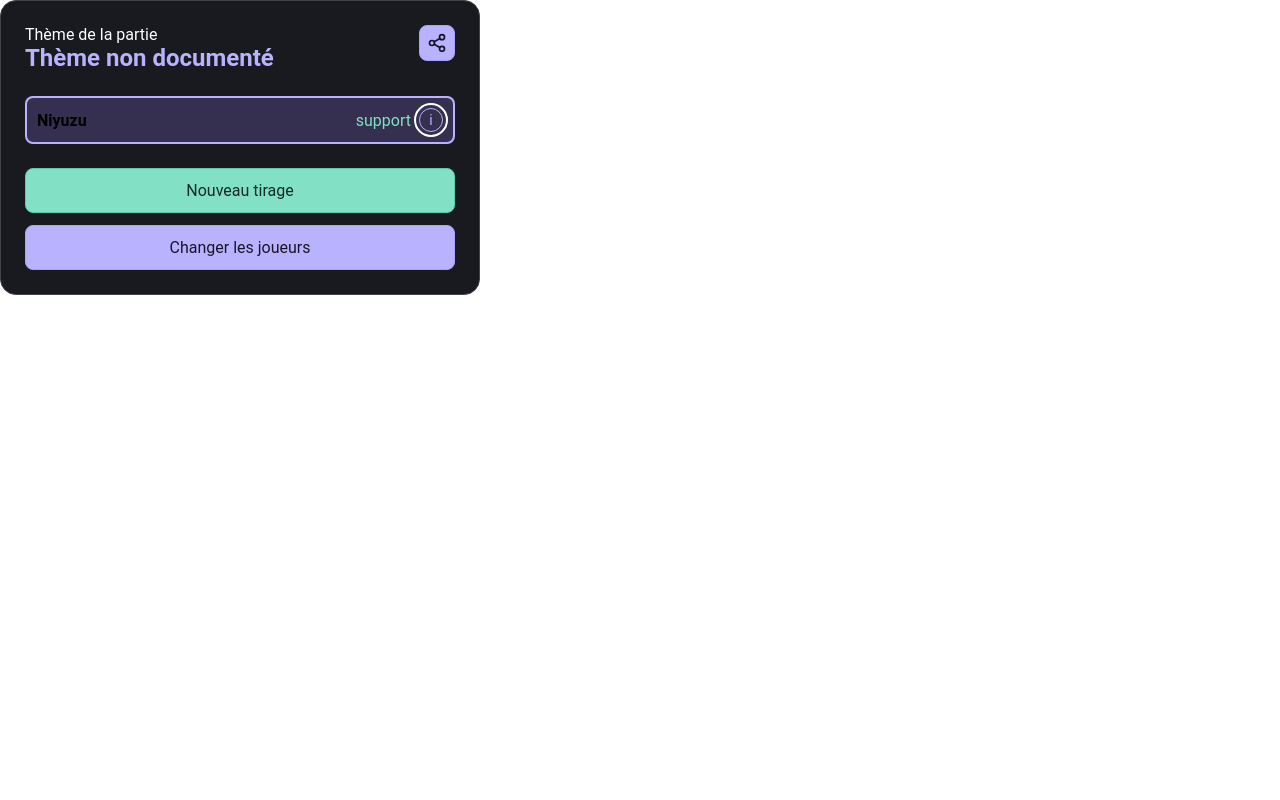
it: champion popup › explains an undocumented theme
Click the button "i". click: x=431, y=120
box: [419,108,443,132]
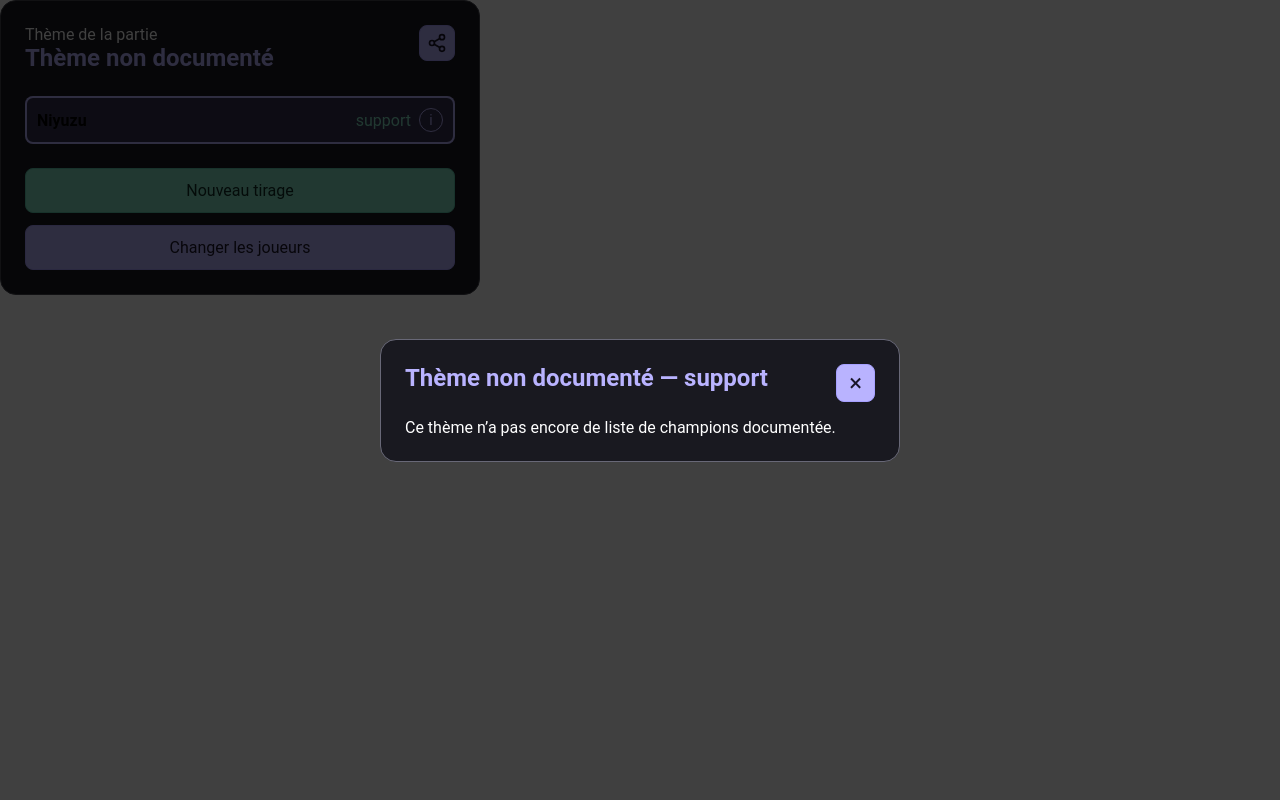
Check: the text "Ce thème n’a pas encore de liste de champions documentée." is shown, box [405,418,875,436]
